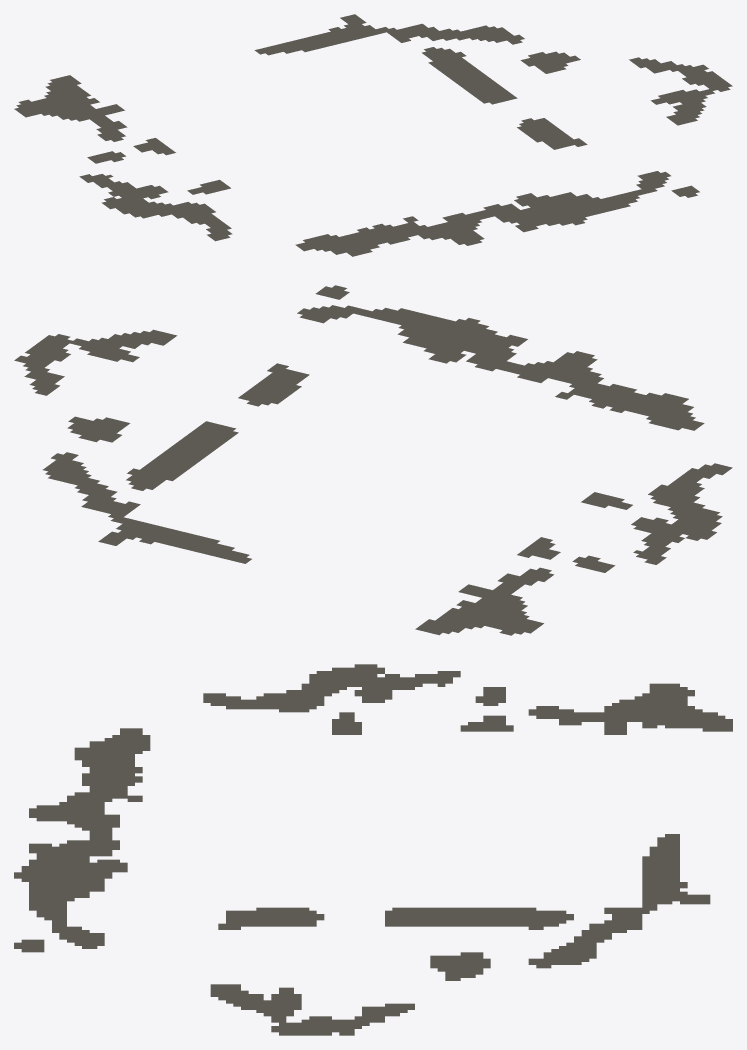
The model's file is Isl-orc1-NoBuildArea.fbx.
3 renders of one model, top to bottom at view 1: azimuth 30°, elevation 25°; view 2: azimuth 150°, elevation 25°; view 3: azimuth 270°, elevation 25°, orthographic. The views are drawn at different scales.
Parts seen in each view (by area): view 1: Isl-orc1-NoBuildArea; view 2: Isl-orc1-NoBuildArea; view 3: Isl-orc1-NoBuildArea.
Part boxes in pixels (bbox=[...]): Isl-orc1-NoBuildArea: bbox=[14, 14, 732, 256]; Isl-orc1-NoBuildArea: bbox=[14, 285, 732, 635]; Isl-orc1-NoBuildArea: bbox=[14, 664, 732, 1035].
Bounding box in the file's own units: 116 × 0 × 95.
